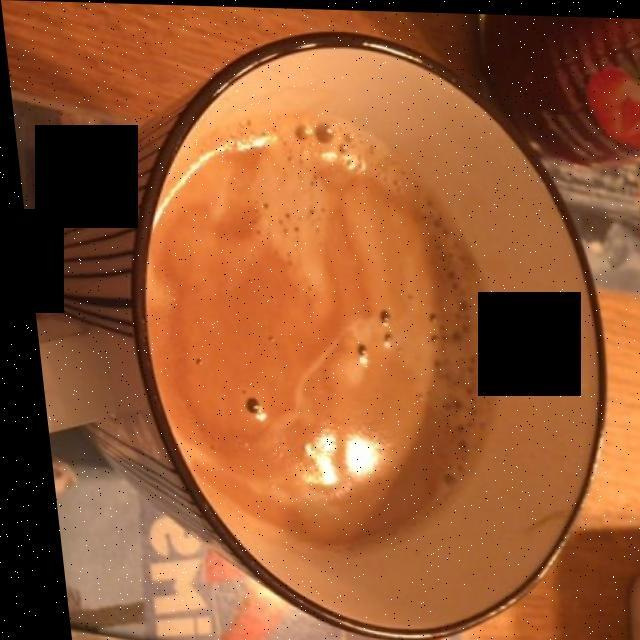coffee: (143, 122, 478, 526)
